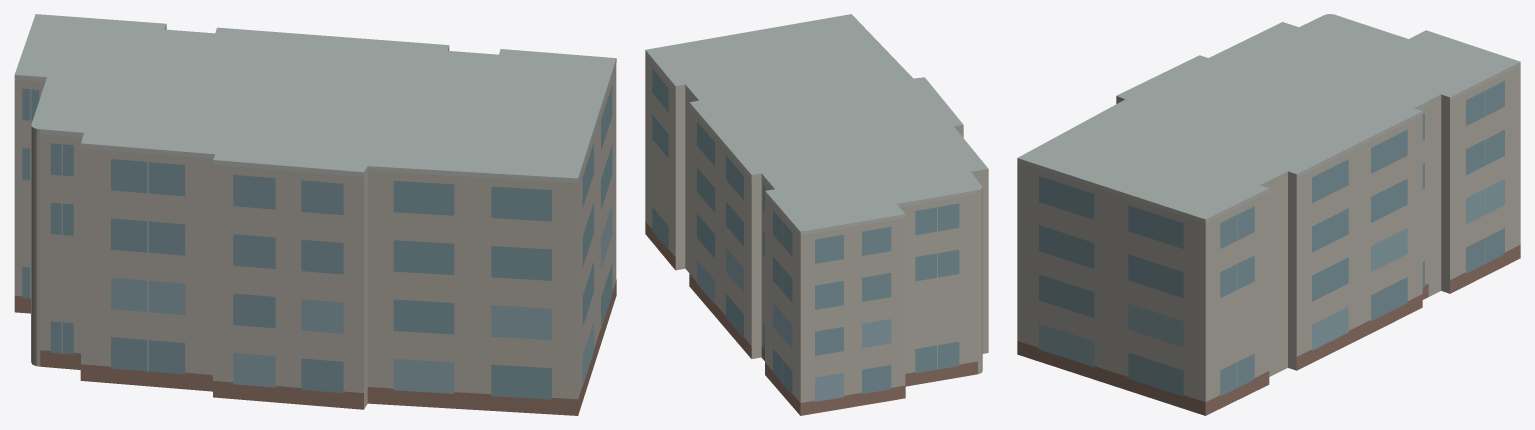
Rendered from survey-upis-32527905.glb.
3 renders of one model, left to right at view 1: azimuth 30°, elevation 25°; view 2: azimuth 150°, elevation 25°; view 3: azimuth 270°, elevation 25°, orthographic. The views are drawn at different scales.
Visible parts, largest first — view 1: survey-upis-32527905.tmp; view 2: survey-upis-32527905.tmp; view 3: survey-upis-32527905.tmp.
Part boxes in pixels (bbox=[...]): survey-upis-32527905.tmp: bbox=[14, 14, 616, 415]; survey-upis-32527905.tmp: bbox=[645, 14, 988, 415]; survey-upis-32527905.tmp: bbox=[1017, 14, 1520, 415].
Bounding box in the file's own units: 27.81 × 12.4 × 28.8.
